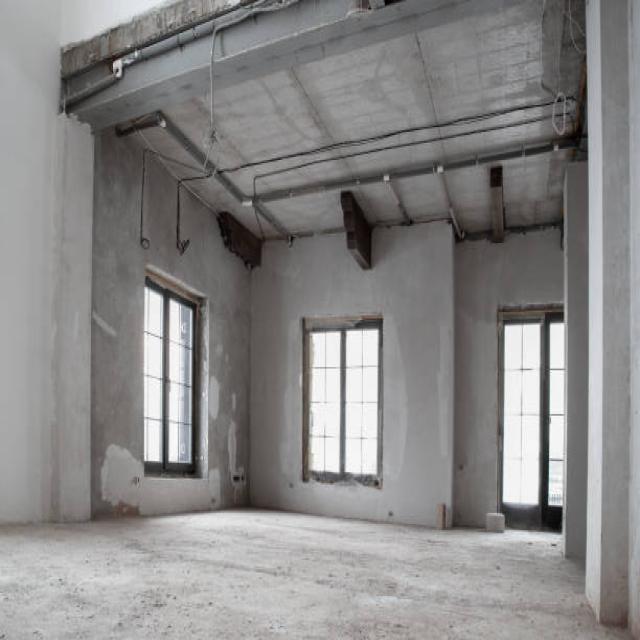floor: (0, 504, 638, 640)
wall: (89, 127, 252, 522), (248, 223, 452, 529), (451, 229, 567, 529), (600, 0, 629, 626), (301, 315, 384, 490), (141, 263, 207, 481), (584, 0, 603, 623), (563, 162, 587, 559), (626, 0, 640, 640), (60, 0, 181, 51)
